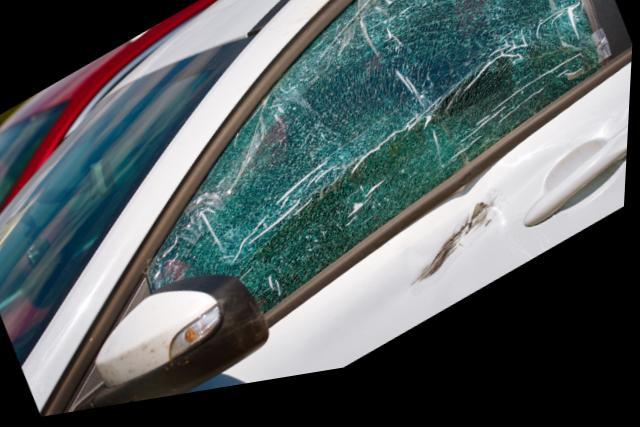glass shatter: (150, 0, 607, 322)
scratch: (413, 217, 504, 303)
